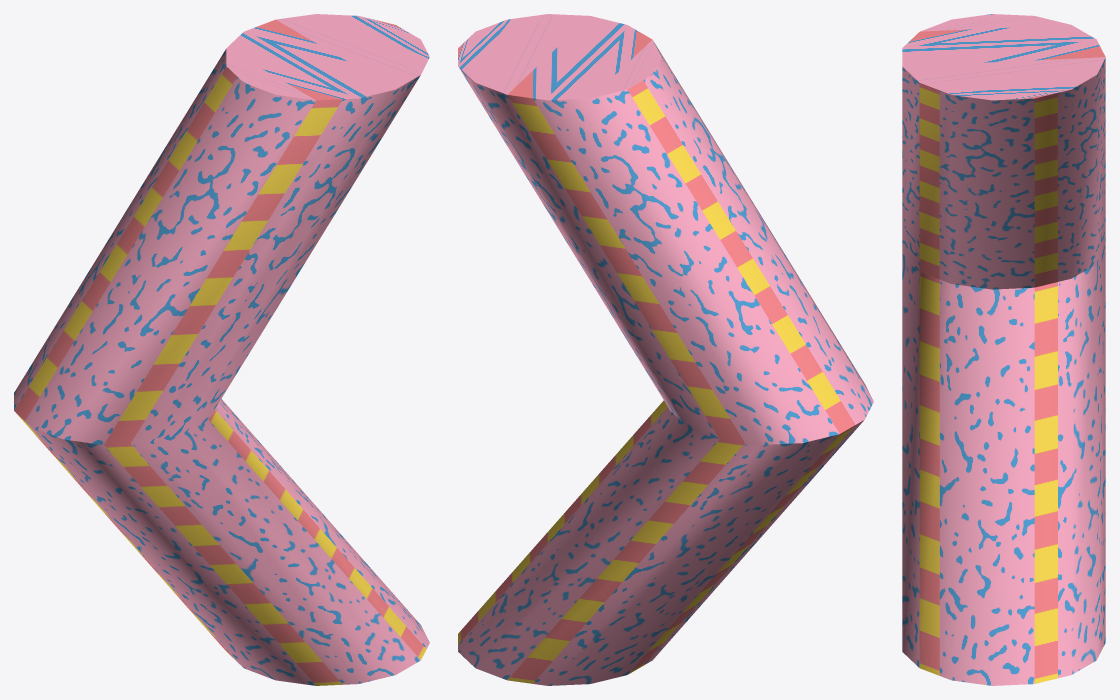
Rendered from M_pillarTordu.fbx.
3 renders of one model, left to right at view 1: azimuth 30°, elevation 25°; view 2: azimuth 150°, elevation 25°; view 3: azimuth 270°, elevation 25°, orthographic.
Parts seen in each view (by area): view 1: Plane.002; view 2: Plane.002; view 3: Plane.002.
Boxes of the visible parts, box(x1,y1,x2,y2) form: Plane.002: box(14, 14, 429, 685); Plane.002: box(458, 14, 873, 685); Plane.002: box(902, 14, 1105, 685).
Bounding box in the file's own units: 219 × 315 × 99.16.
